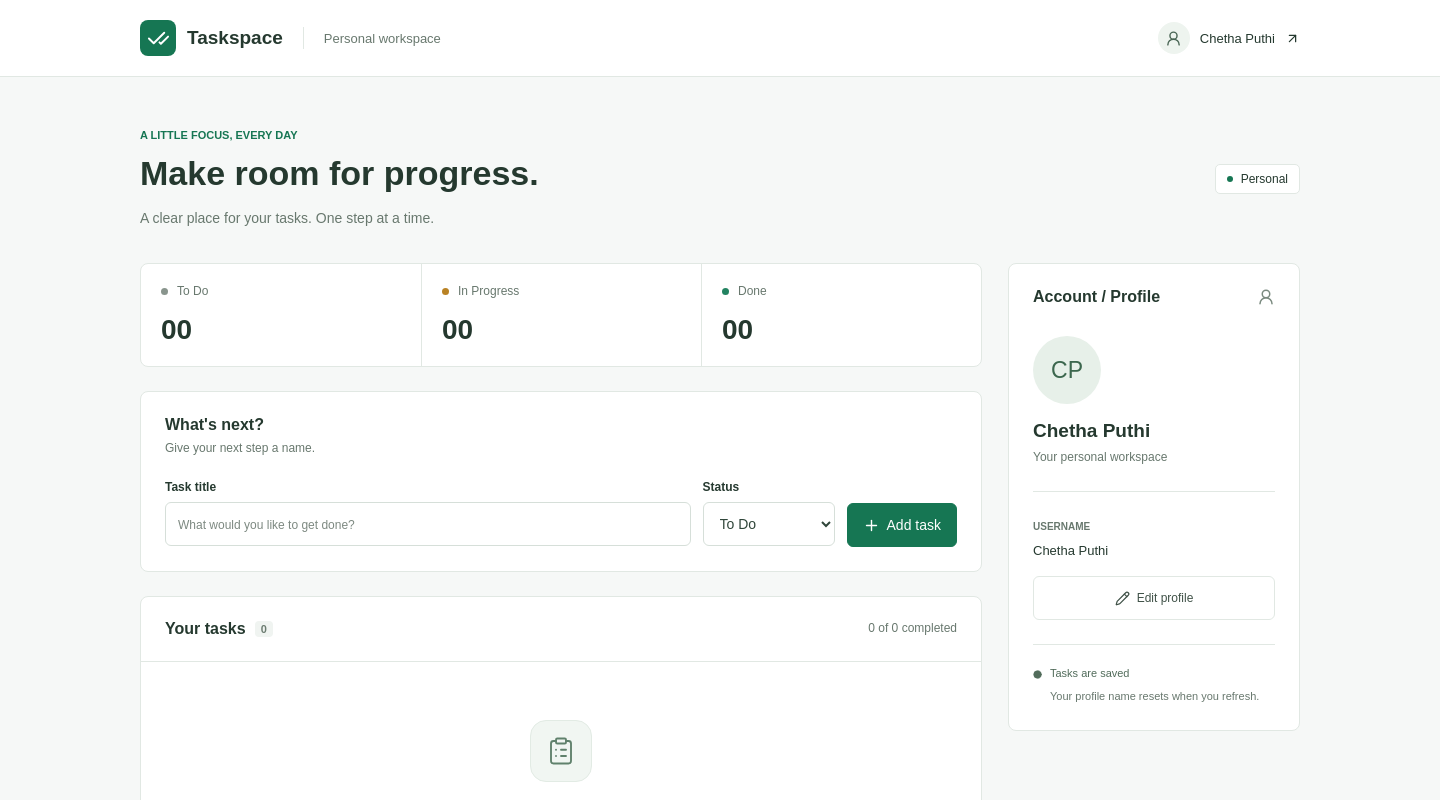
Todo workspace › supports keyboard task submission and visible input focus
This screenshot has width=1440, height=800.
Click the field labelled "Task title" at (428, 524), box [165,502,690,546]
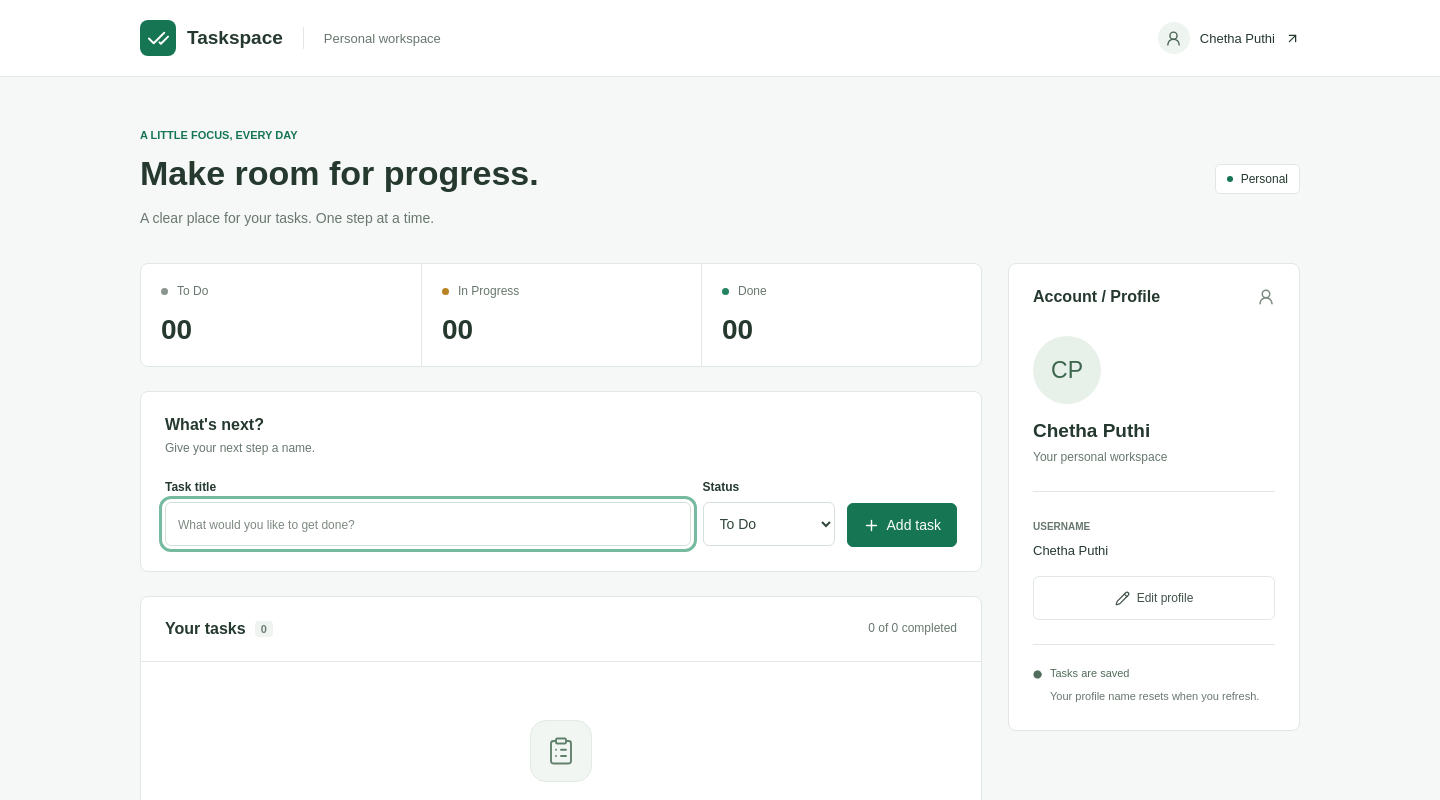
Type keys "Keyboard task{Enter}"
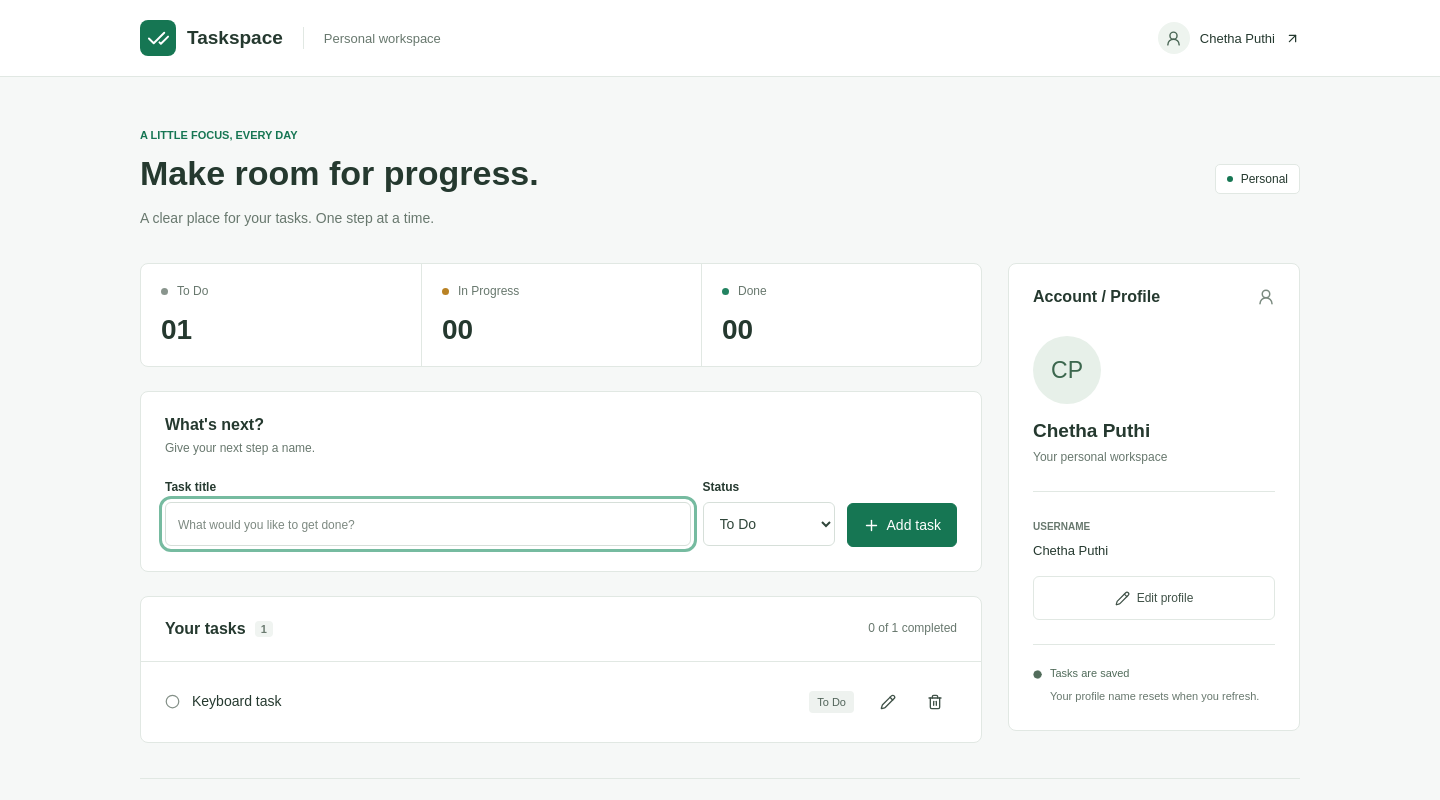
Check: the text "Keyboard task" is shown, box [192,693,282,709]
